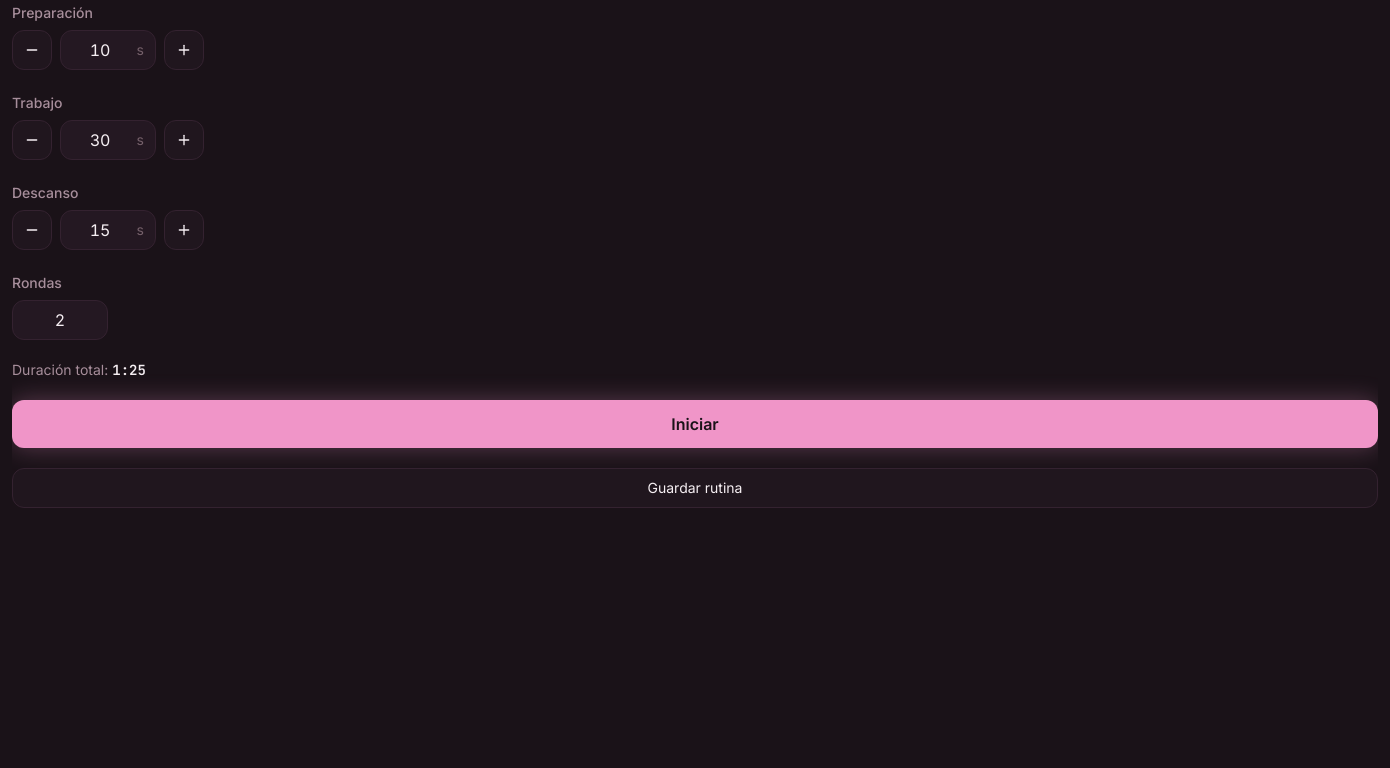
Test: ClasicoConfigScreen — validación bloquea el inicio (spec timer-modes) › trabajo = abc muestra el mensaje español «El trabajo debe ser un número» y no inicia
Replace the text in the field labelled "Trabajo" with "abc" at (108, 140), box [60,120,156,160]
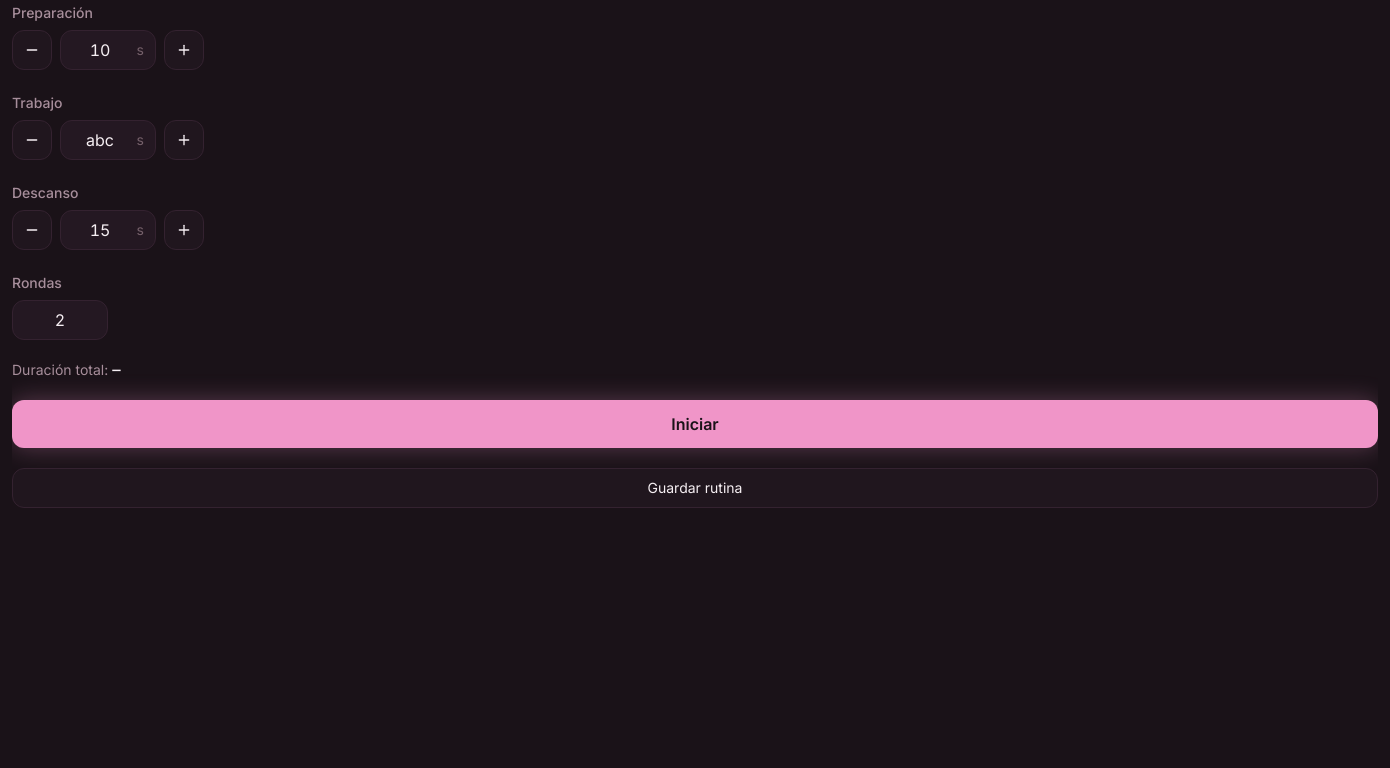
Click the button "Iniciar" at (695, 424), box [12,400,1378,448]
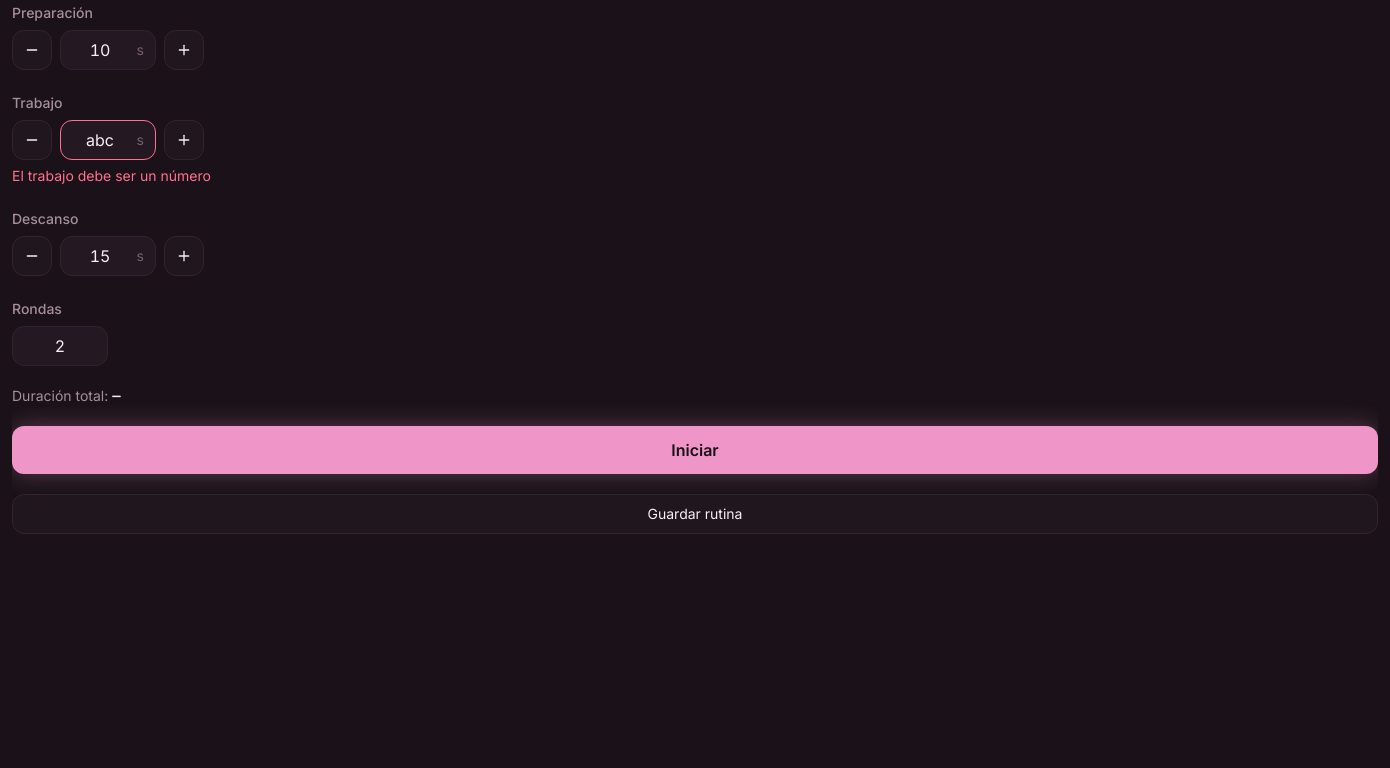
expect the text "El trabajo debe ser un número" is shown: met, box [12,167,211,184]
